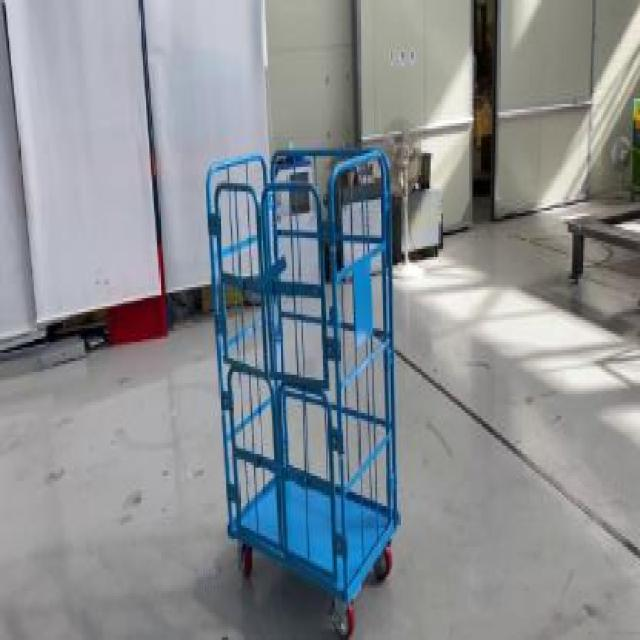cart: (206, 142, 400, 637)
